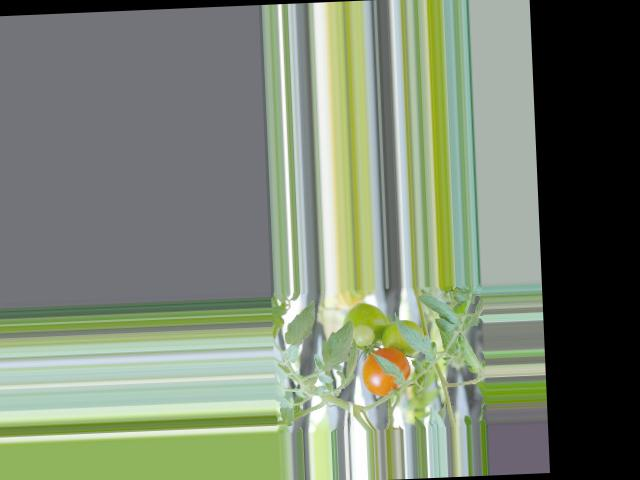tomato: (360, 347, 411, 397)
